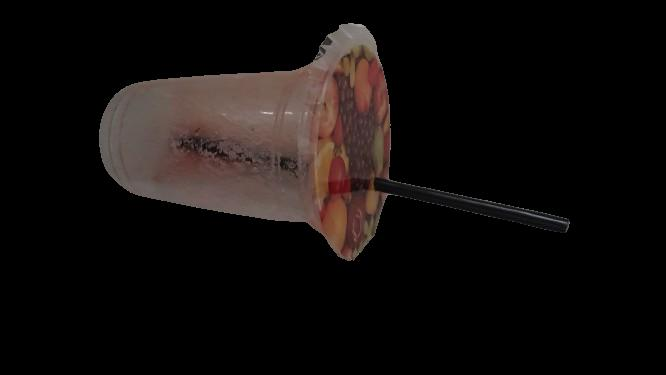Plastik: (98, 11, 395, 267), (384, 169, 580, 238)
